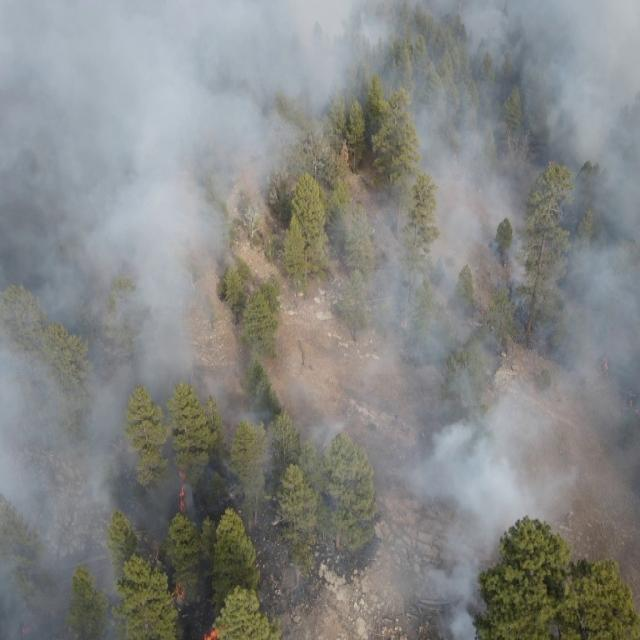fire: (173, 458, 194, 512), (201, 617, 233, 640), (172, 580, 190, 606), (596, 356, 614, 375), (18, 618, 32, 638), (626, 393, 640, 412)
smoke: (0, 0, 476, 640), (476, 0, 639, 515), (478, 515, 508, 563), (507, 514, 573, 535)
